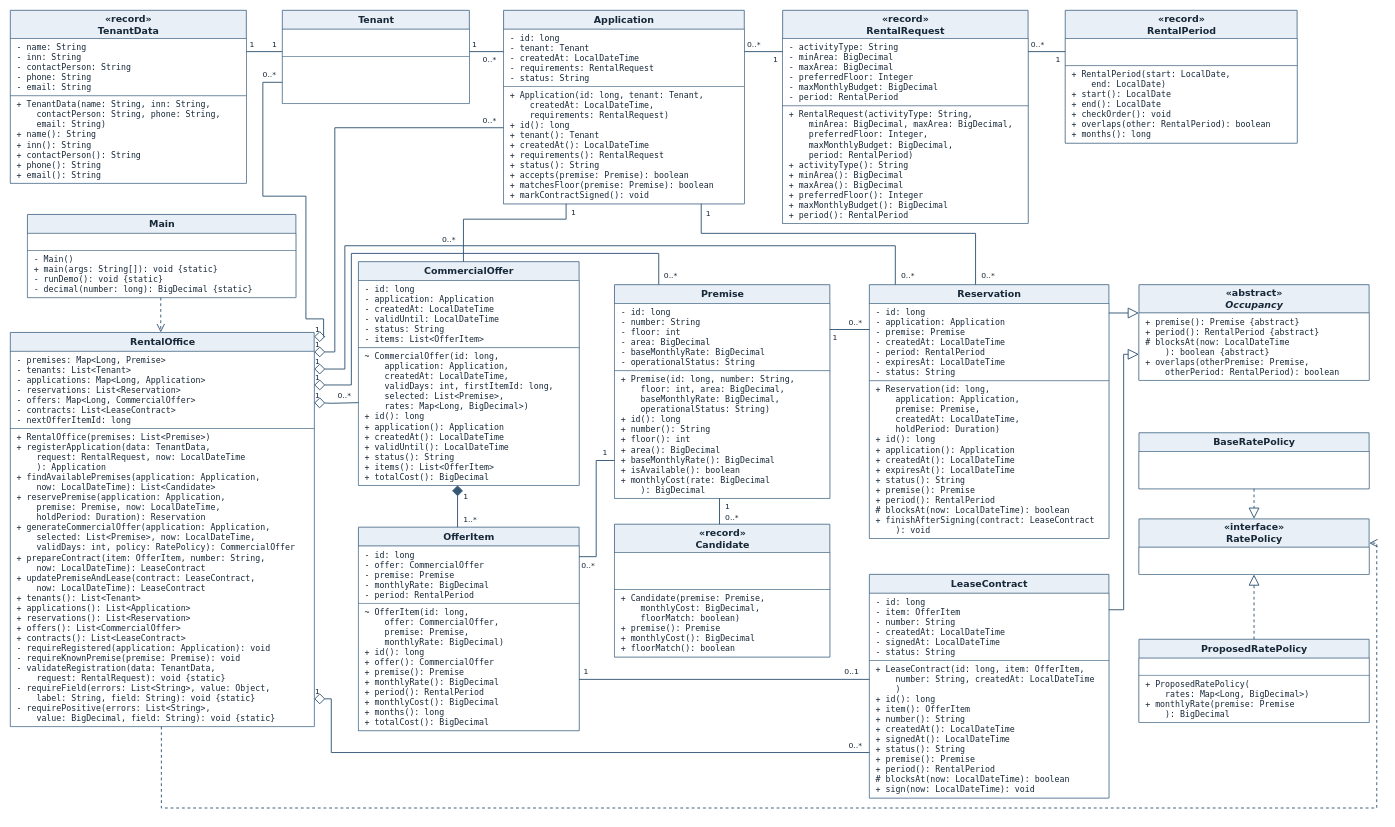
The diagram is 1395 pixels wide and 827 high, and some of its shapes have lost their labels. Here are the shapes that lost their labels. From the top down, the centre of each, then its label:
At pixel 375 42: "- id: long - data: TenantData".
At pixel 1181 52: "- start: LocalDate - end: LocalDate".
At pixel 375 80: "+ Tenant(id: long, data: TenantData) + id(): long + data(): TenantData".
At pixel 161 241: "- TIMESTAMP: DateTimeFormatter {static}".
At pixel 1253 470: "+ BaseRatePolicy() + monthlyRate(premise: Premise ): BigDecimal".
At pixel 722 571: "- premise: Premise - monthlyCost: BigDecimal - floorMatch: boolean".
At pixel 1253 560: "+ monthlyRate(premise: Premise ): BigDecimal".
At pixel 1253 666: "- rates: Map<Long, BigDecimal>".
